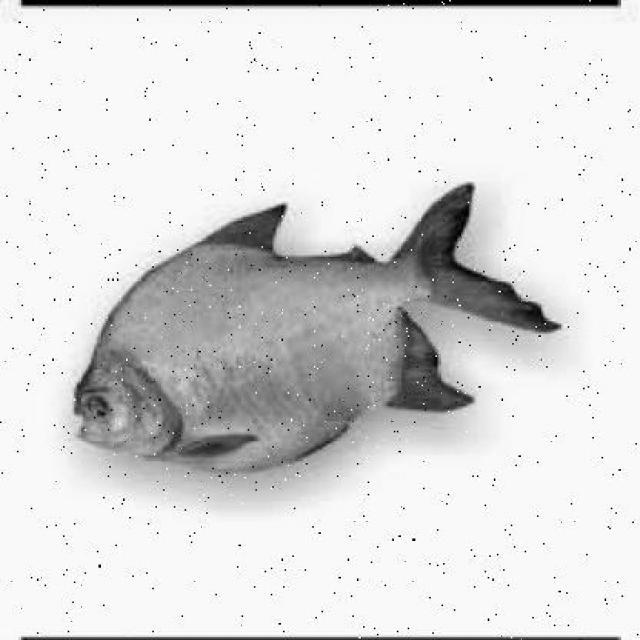ikan-pacu: (74, 167, 511, 478)
